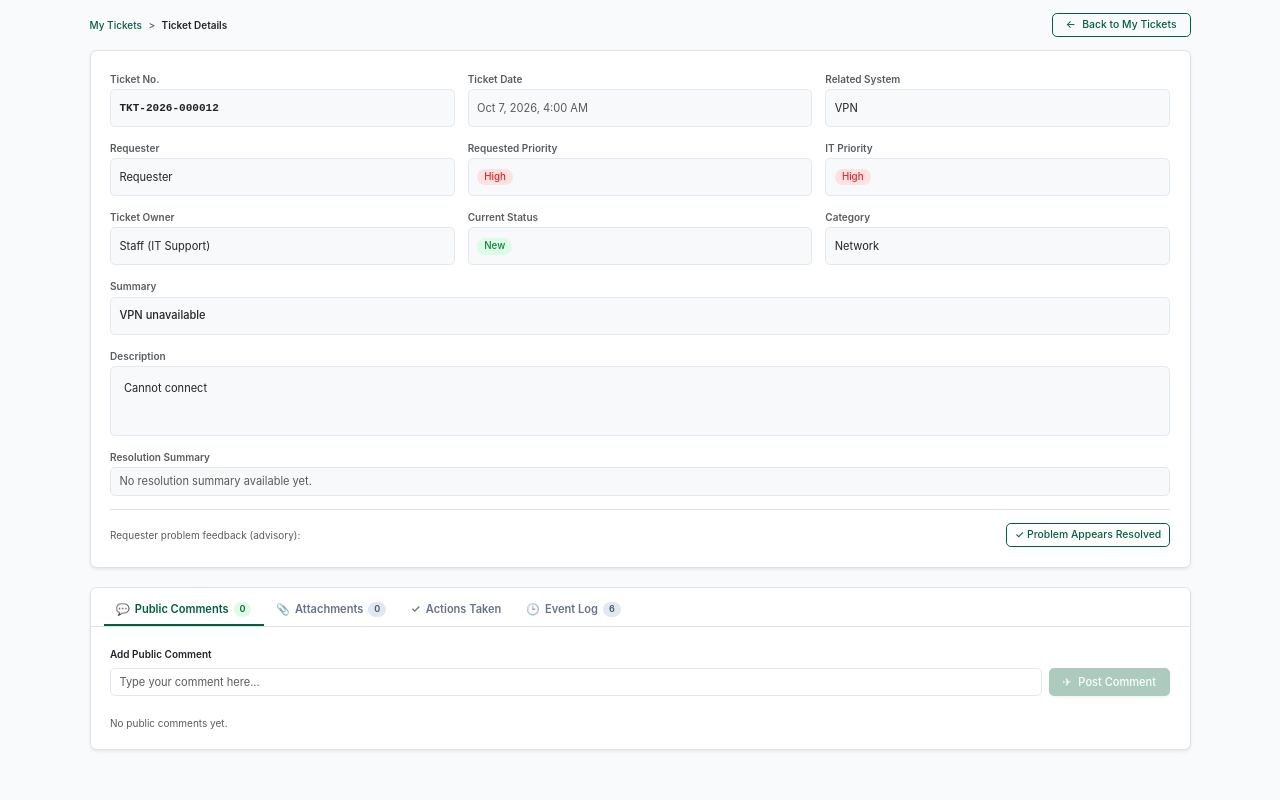
Test: Lab 4 Ticket workflow UI › keeps Requester indication advisory and exposes no formal status controls
The image size is (1280, 800).
Expected: the element with test id "requester-resolution-feedback" shows "advisory", [110,529,300,541]
Click the button with test id "indicate-resolved-btn" at (1088, 535), box [1006,523,1170,547]
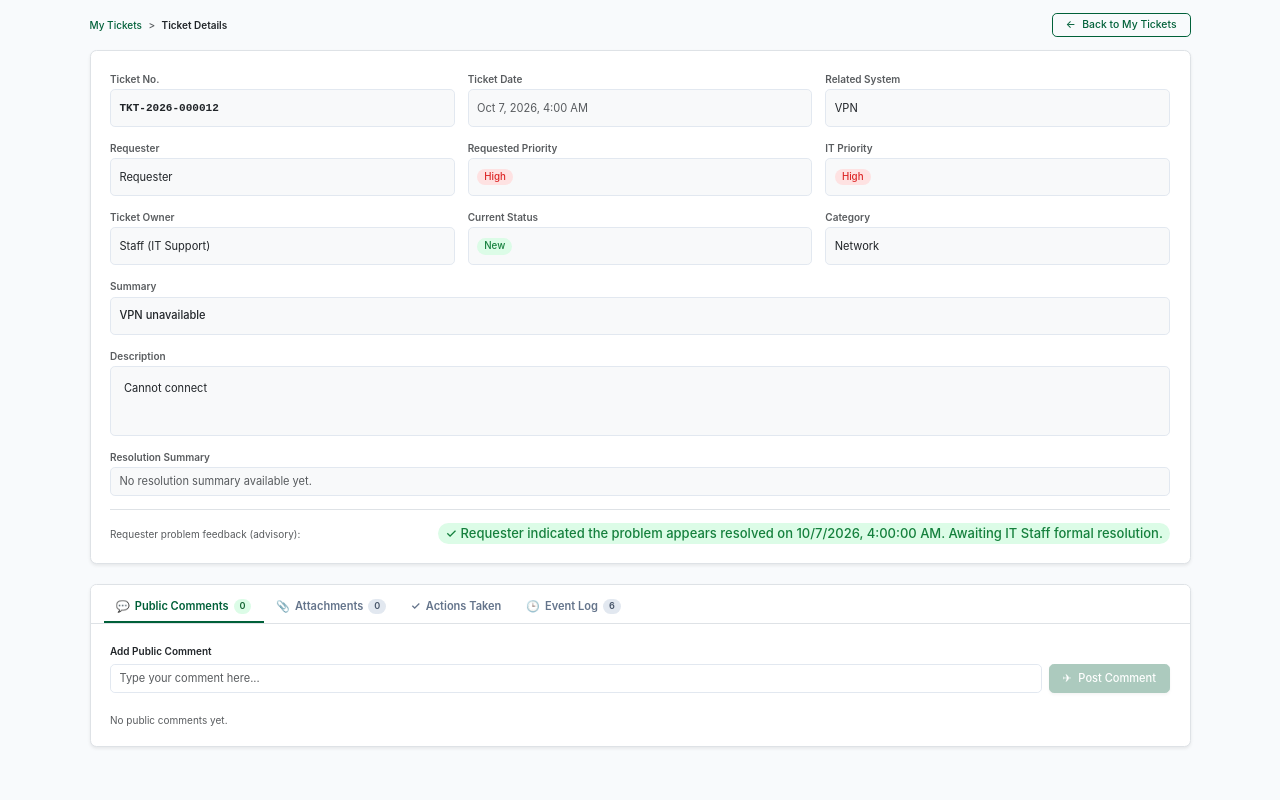
Now the text with test id "requester-resolved-badge" shows "Awaiting IT Staff formal resolution", box [941,525,1163,541]
